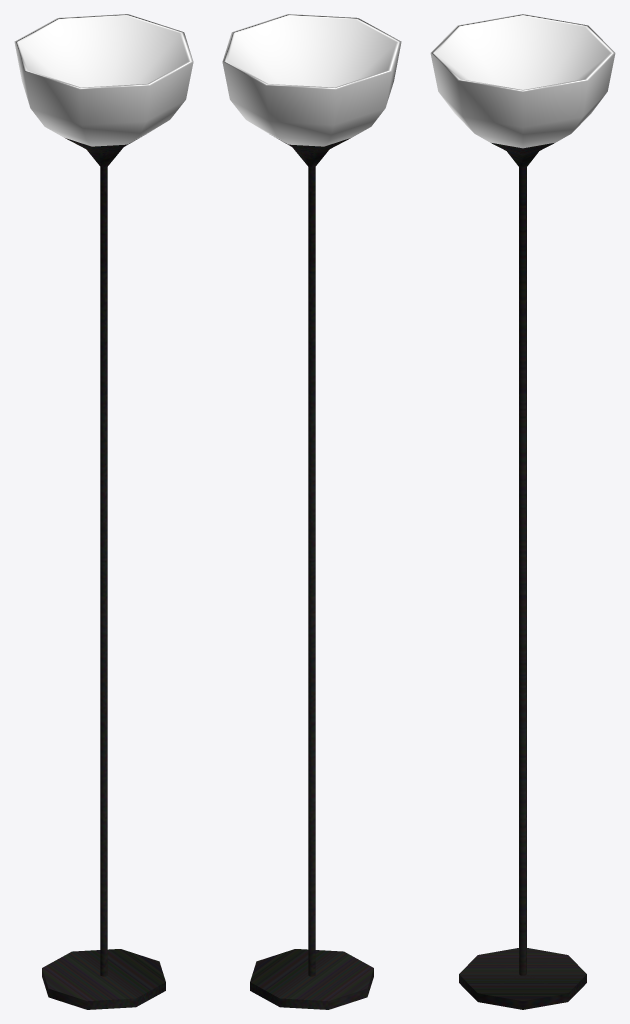
File: lamp.obj
The picture shows the model from 3 angles, left to right: view 1: azimuth 30°, elevation 25°; view 2: azimuth 150°, elevation 25°; view 3: azimuth 270°, elevation 25°; orthographic projection.
Parts seen in each view (by area): view 1: pCylinder1; view 2: pCylinder1; view 3: pCylinder1.
Boxes of the visible parts, left/top/right/bottom form: pCylinder1: left=14, top=14, right=193, bottom=1009; pCylinder1: left=222, top=14, right=401, bottom=1009; pCylinder1: left=430, top=14, right=615, bottom=1009.
Size of the model in its own units: 4.53 by 25.1 by 4.53.
